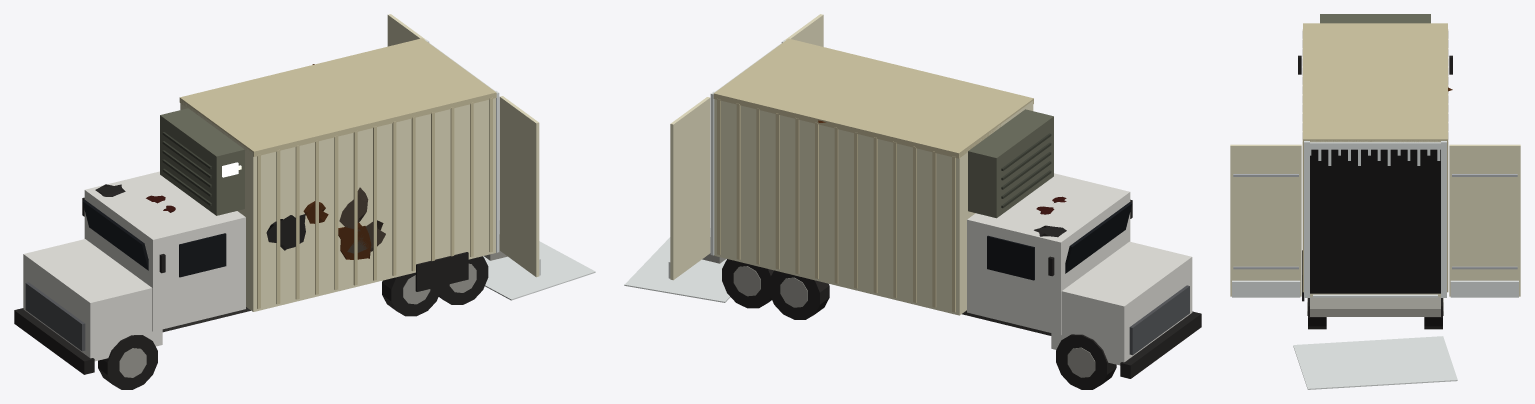
Rendered from lab_cold_truck.glb.
The picture shows the model from 3 angles, left to right: view 1: azimuth 30°, elevation 25°; view 2: azimuth 150°, elevation 25°; view 3: azimuth 270°, elevation 25°; orthographic projection. The views are drawn at different scales.
Visible parts, largest first — view 1: lab_cold_truck; view 2: lab_cold_truck; view 3: lab_cold_truck.
Boxes of the visible parts, left/top/right/bottom form: lab_cold_truck: left=14, top=14, right=595, bottom=389; lab_cold_truck: left=624, top=14, right=1201, bottom=389; lab_cold_truck: left=1230, top=14, right=1520, bottom=389.
Bounding box in the file's own units: 9.92 × 3.91 × 4.98.
